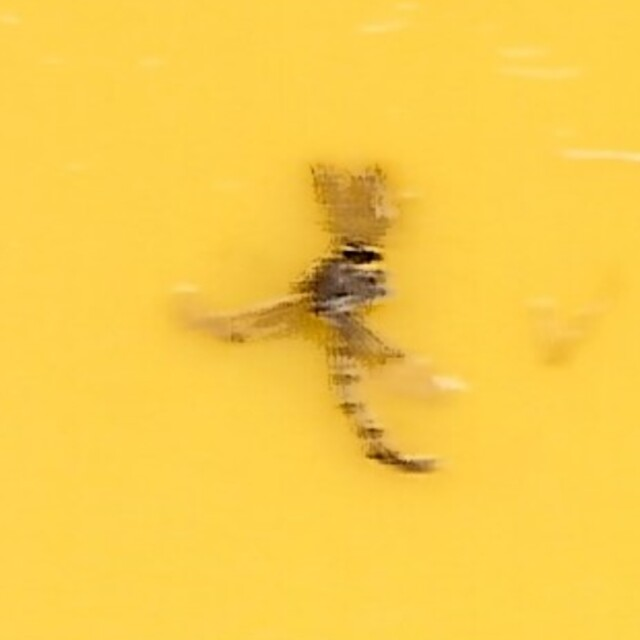Nematocera: (206, 164, 434, 476)
